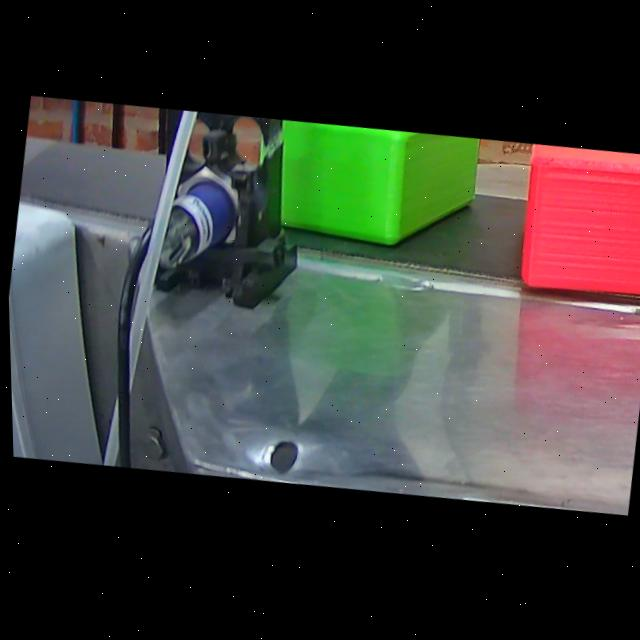greenBox: (261, 115, 491, 277)
redBox: (508, 145, 640, 317)
